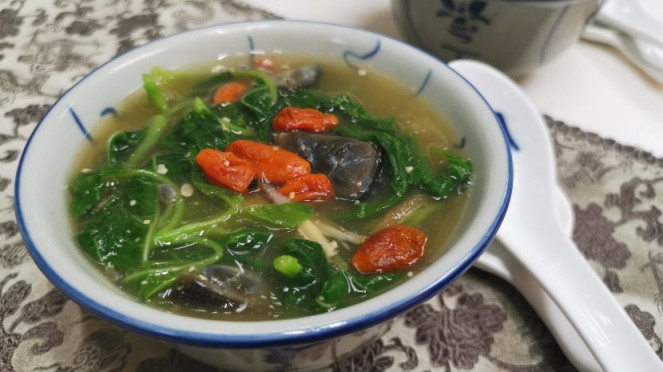Sayur Bayam: (11, 46, 492, 357)
